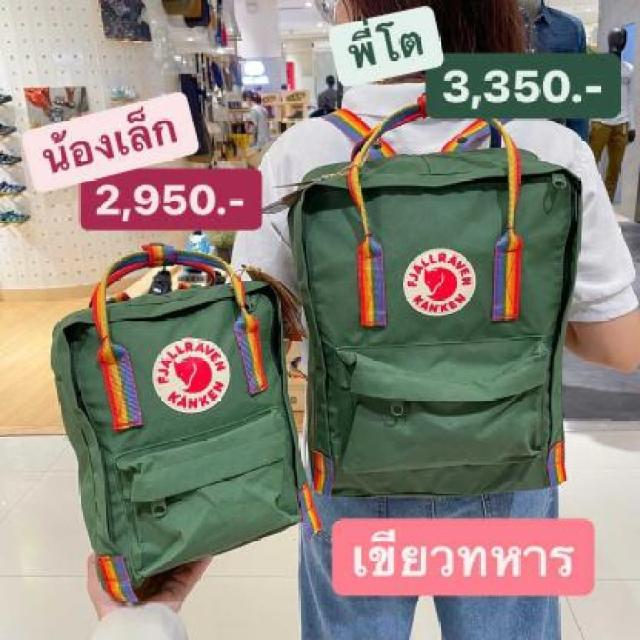Bag: (264, 107, 584, 516), (49, 245, 320, 589)
